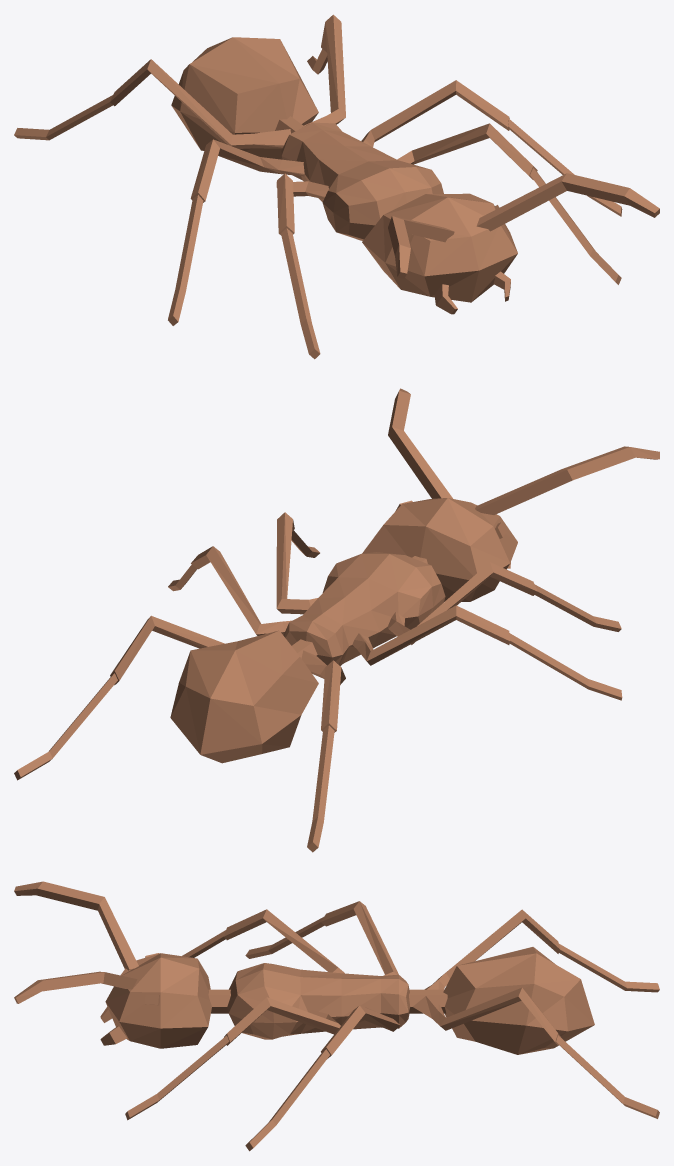
3 renders of one model, top to bottom at view 1: azimuth 30°, elevation 25°; view 2: azimuth 150°, elevation 25°; view 3: azimuth 270°, elevation 25°, orthographic. The views are drawn at different scales.
Parts seen in each view (by area): view 1: Geo_Ant_1; view 2: Geo_Ant_1; view 3: Geo_Ant_1.
Part boxes in pixels (x1,y1,x2,y2): Geo_Ant_1: (14,14,659,359); Geo_Ant_1: (14,388,659,852); Geo_Ant_1: (14,881,659,1151).
Size of the model in its own units: 49.32 by 14.72 by 69.04.
